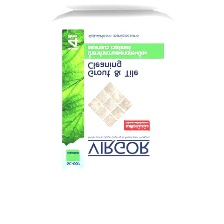cleaning_solution: (46, 5, 179, 221)
